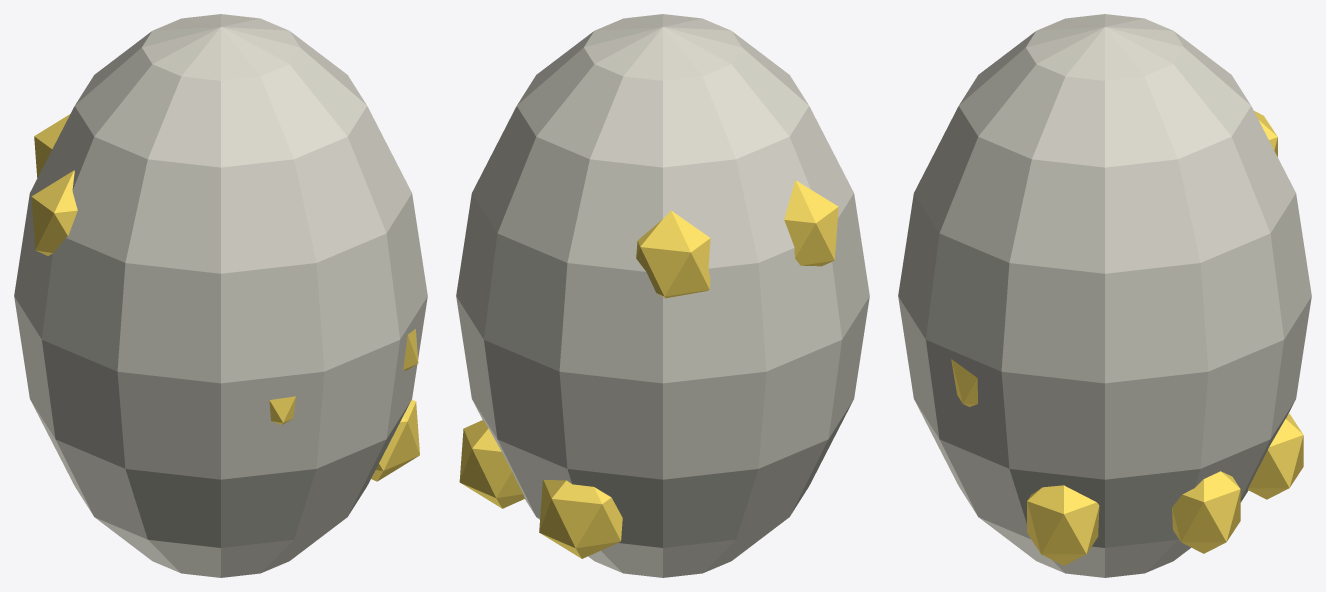
File: Egg.fbx
3 renders of one model, left to right at view 1: azimuth 30°, elevation 25°; view 2: azimuth 150°, elevation 25°; view 3: azimuth 270°, elevation 25°, orthographic.
Visible parts, largest first — view 1: Body.014, Spot.002, Spot.006, Spot.005, Spot.004; view 2: Body.014, Spot, Spot.005, Spot.002, Spot.003; view 3: Body.014, Spot.006, Spot.003, Spot, Spot.001.
Boxes of the visible parts, bbox=[...] form: Body.014: bbox=[14, 14, 427, 577]; Spot.002: bbox=[31, 170, 77, 255]; Spot.006: bbox=[371, 399, 419, 481]; Spot.005: bbox=[34, 114, 70, 177]; Spot.004: bbox=[269, 396, 295, 424]; Body.014: bbox=[456, 14, 869, 577]; Spot: bbox=[539, 480, 622, 558]; Spot.005: bbox=[636, 210, 710, 298]; Spot.002: bbox=[784, 180, 838, 266]; Spot.003: bbox=[459, 420, 524, 508]; Body.014: bbox=[898, 14, 1311, 577]; Spot.006: bbox=[1027, 485, 1099, 565]; Spot.003: bbox=[1172, 471, 1240, 553]; Spot: bbox=[1248, 413, 1303, 499]; Spot.001: bbox=[951, 359, 977, 406].
Bounding box in the file's own units: 230 × 330 × 230.
